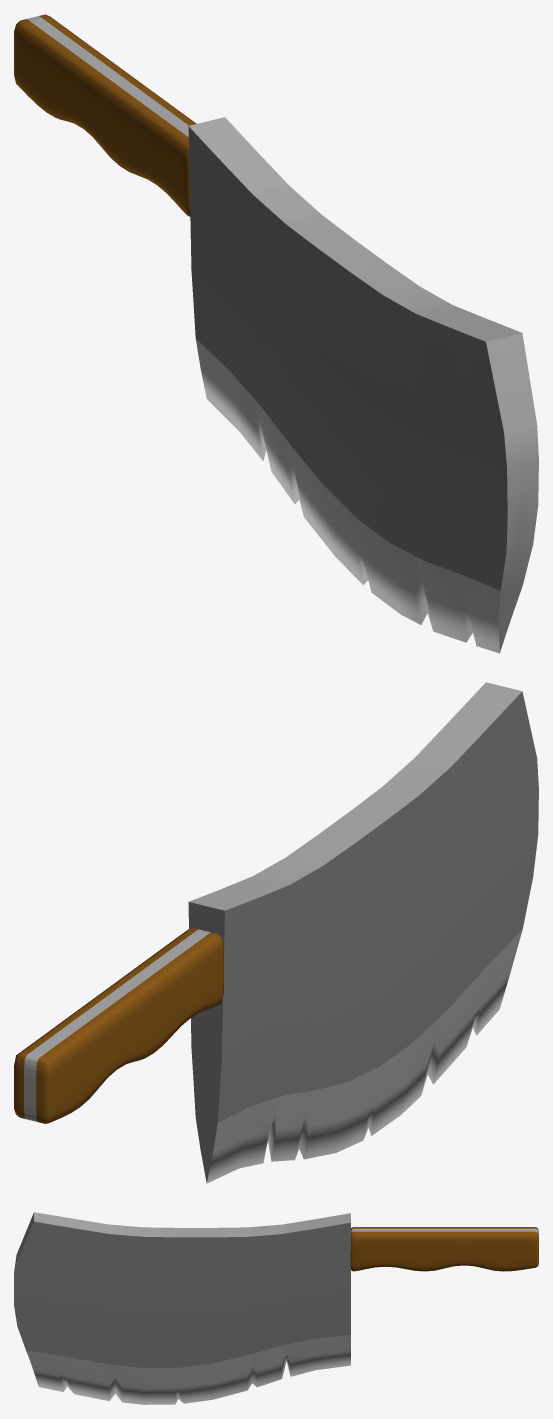
The model's file is butcherknife.fbx.
The picture shows the model from 3 angles, top to bottom: view 1: azimuth 30°, elevation 25°; view 2: azimuth 150°, elevation 25°; view 3: azimuth 270°, elevation 25°; orthographic projection. The views are drawn at different scales.
Visible parts, largest first — view 1: butcherknife; view 2: butcherknife; view 3: butcherknife.
Part boxes in pixels (x1=…): butcherknife: x1=14, y1=14, x2=538, y2=653; butcherknife: x1=14, y1=682, x2=538, y2=1183; butcherknife: x1=14, y1=1212, x2=538, y2=1404.
Bounding box in the file's own units: 0.0416 × 0.3804 × 0.9629.
